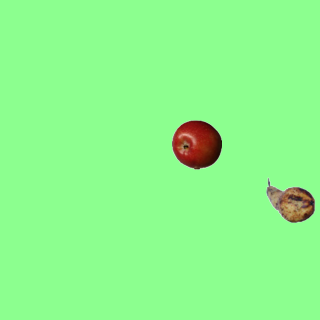Apple Braeburn: (171, 119, 221, 169)
Pear Abate: (265, 175, 315, 225)
